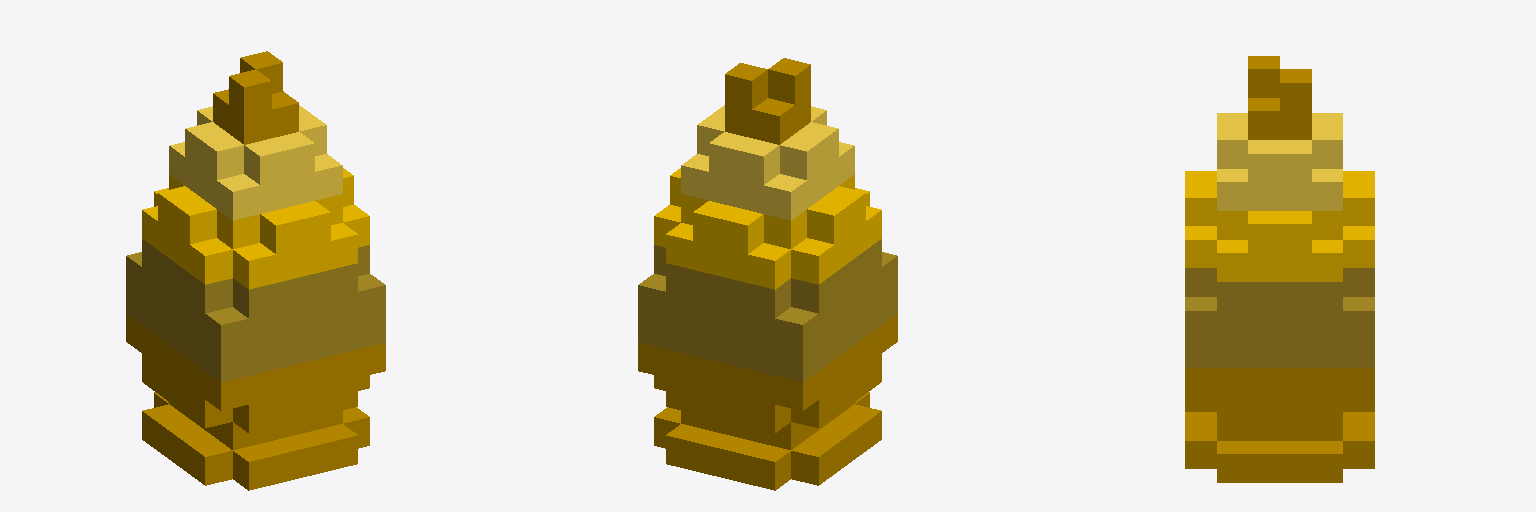
3 renders of one model, left to right at view 1: azimuth 30°, elevation 25°; view 2: azimuth 150°, elevation 25°; view 3: azimuth 270°, elevation 25°, orthographic.
Parts seen in each view (by area): view 1: bonus2; view 2: bonus2; view 3: bonus2.
Boxes of the visible parts, box(x1,y1,x2,y2) form: bonus2: box(126, 51, 385, 490); bonus2: box(638, 58, 897, 490); bonus2: box(1185, 56, 1374, 482).
Size of the model in its own units: 6 by 13 by 6.
1 materials, 1 textured.